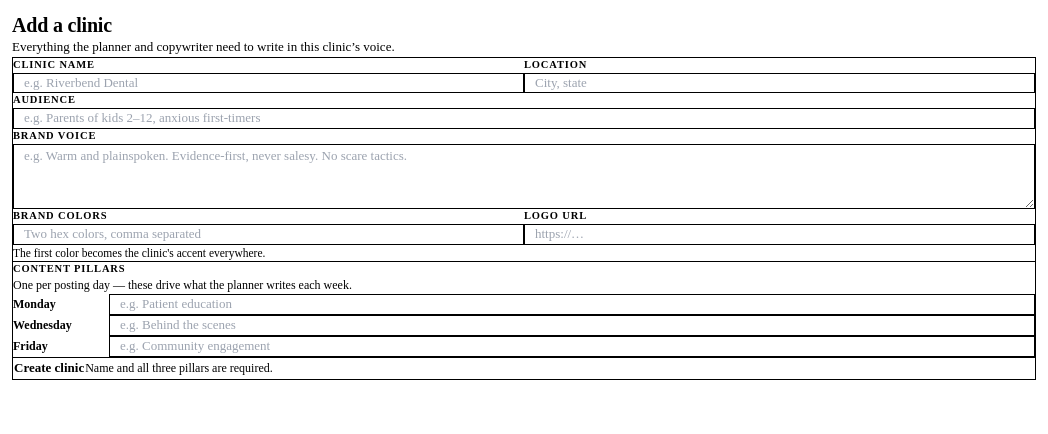
Test: ClientForm › surfaces validation errors on submit without losing the entered values
Type "Trust & Clinic Branding" into the field named "wednesday pillar" at (572, 326), box [109,315,1035,336]
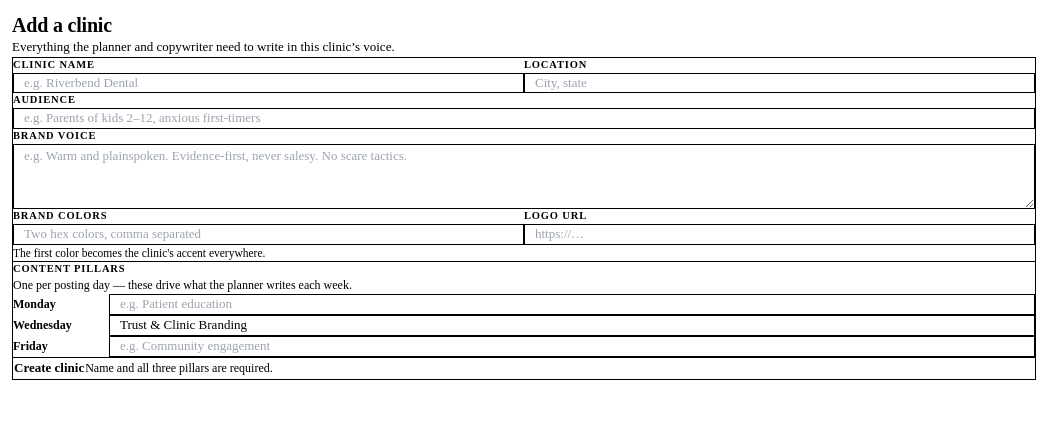
Replace the text in the text box labelled "Brand voice" with "warm, clear, professional" at (524, 176), box [13,144,1035,209]
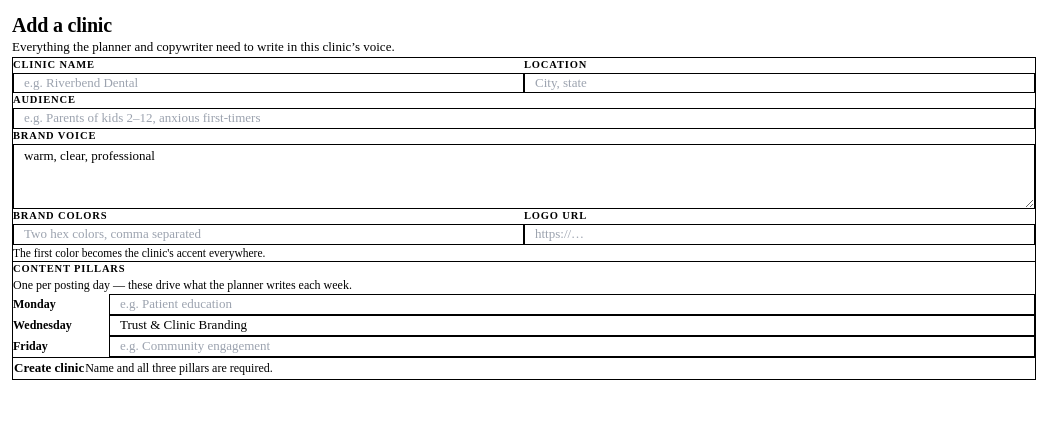
Click the button "Create clinic" at (49, 368), box [13,358,85,379]
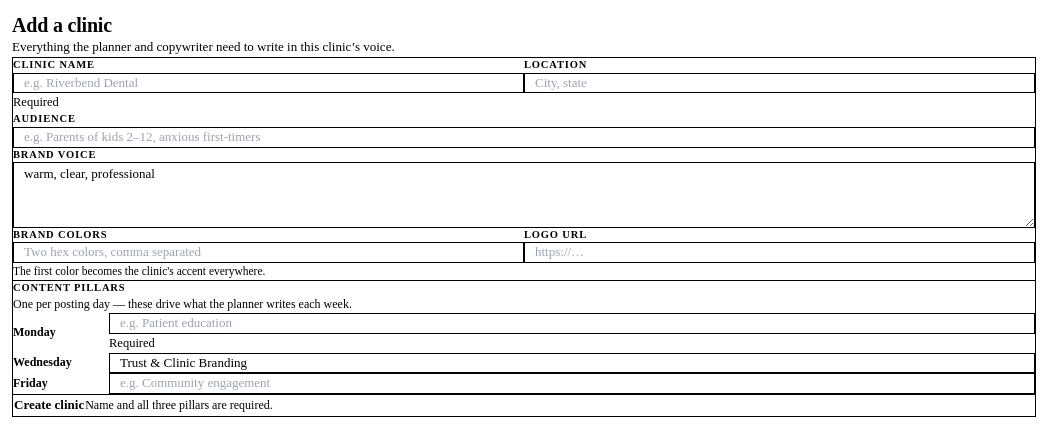
Check: the number of messages is 2, box [13,95,59,109]; [109,336,155,350]
